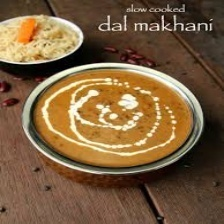dal: (33, 65, 195, 167)
